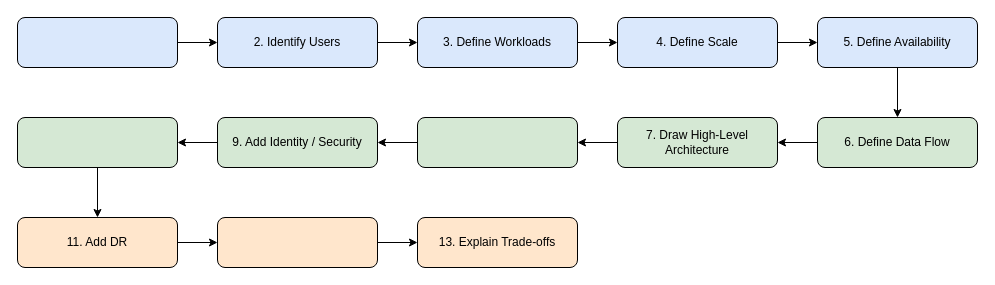
Image size: 995x285. Some labels were removed from this diagram. Each missing label, with the centre of its shape:
"1. Clarify Requirements" belongs at (97,42).
"10. Add Observability" belongs at (97,142).
"12. Add Cost" belongs at (297,242).
"8. Add Networking" belongs at (497,142).
